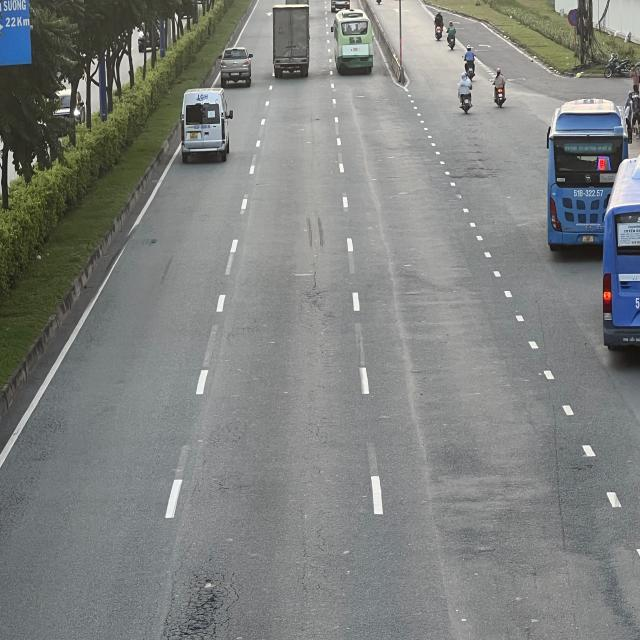car: (221, 48, 254, 88)
coach: (546, 98, 629, 252), (605, 148, 640, 350), (333, 9, 373, 75)
truck: (272, 0, 312, 77)
van: (182, 90, 233, 164)
